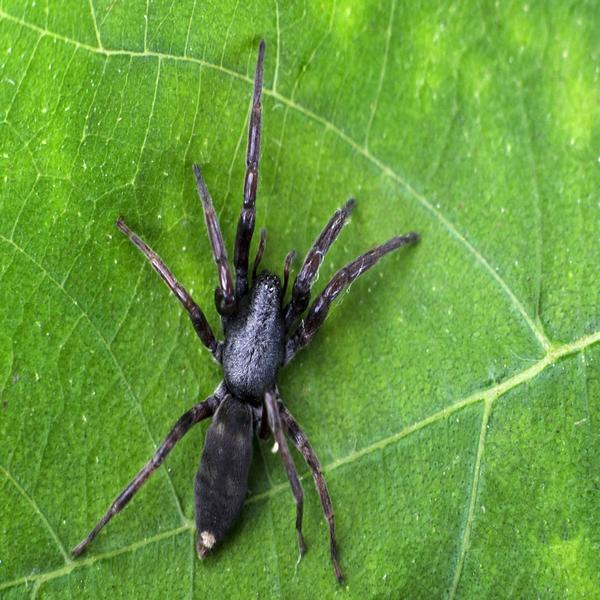White-Tailed_Spider: (68, 40, 419, 580)
